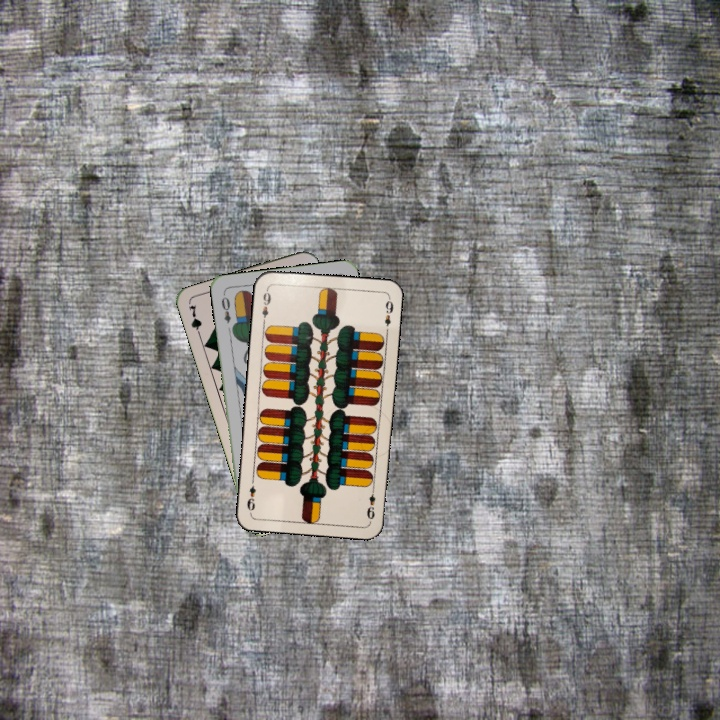E9: (258, 285, 273, 326), (363, 483, 378, 522)
EO: (217, 290, 233, 326)
G7: (185, 301, 205, 341)
